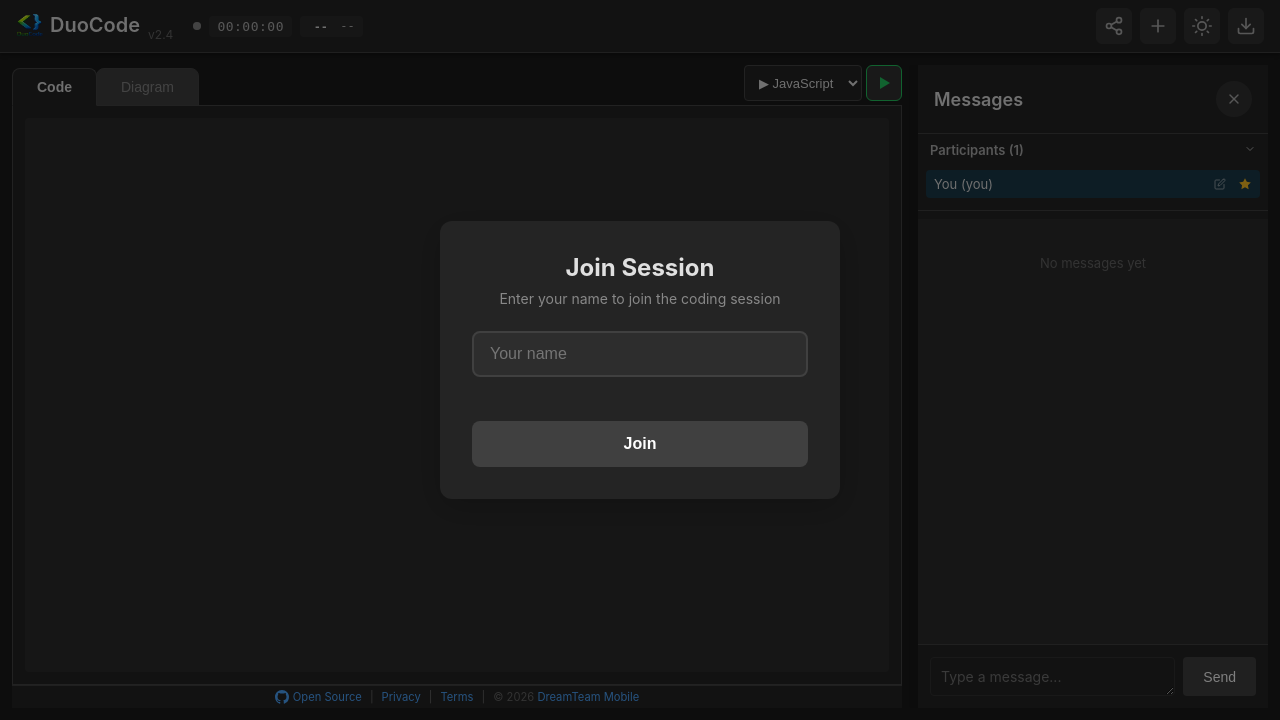
Test: Integration: App loads and creates session › dismisses name modal on submit and stores the name
Expected: the button with id "joinSessionBtn" is shown, [472, 421, 808, 467]
Type "Alice" into the field with placeholder "Your name" at (640, 354), box [472, 331, 808, 377]
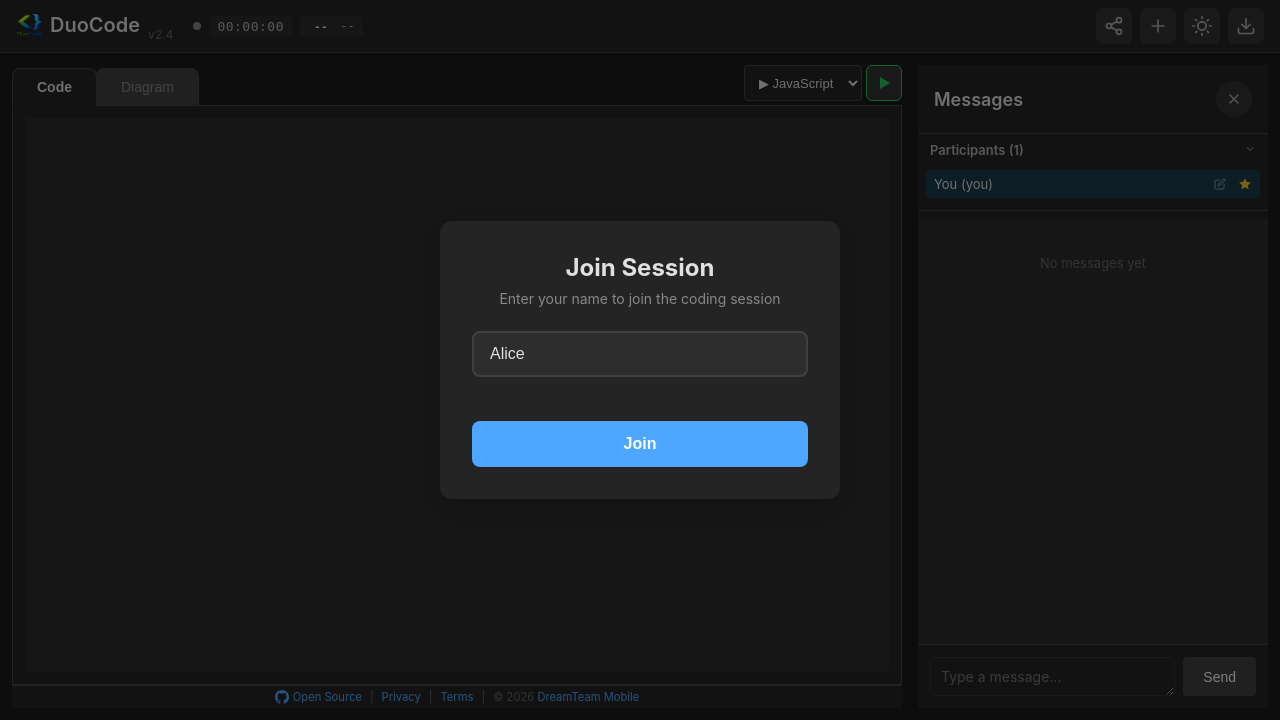
Click the button with id "joinSessionBtn" at (640, 444), box [472, 421, 808, 467]
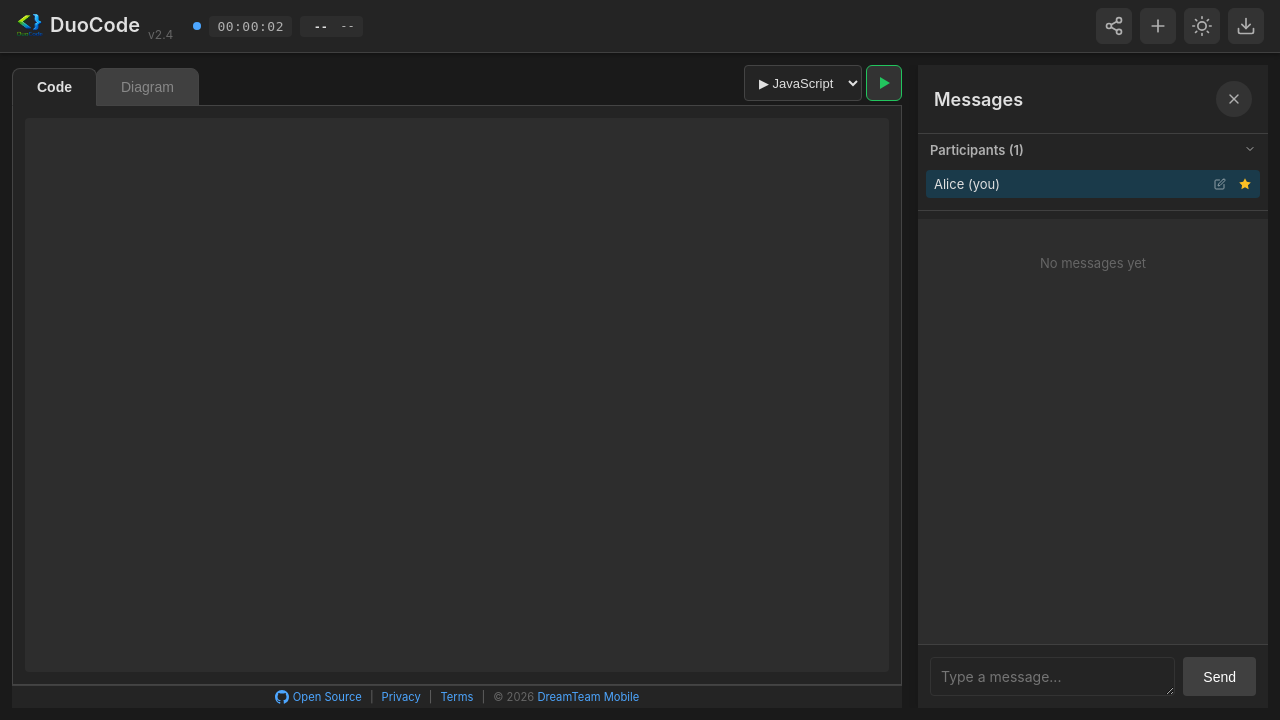
Now the element with test id "name-entry-modal" is gone
